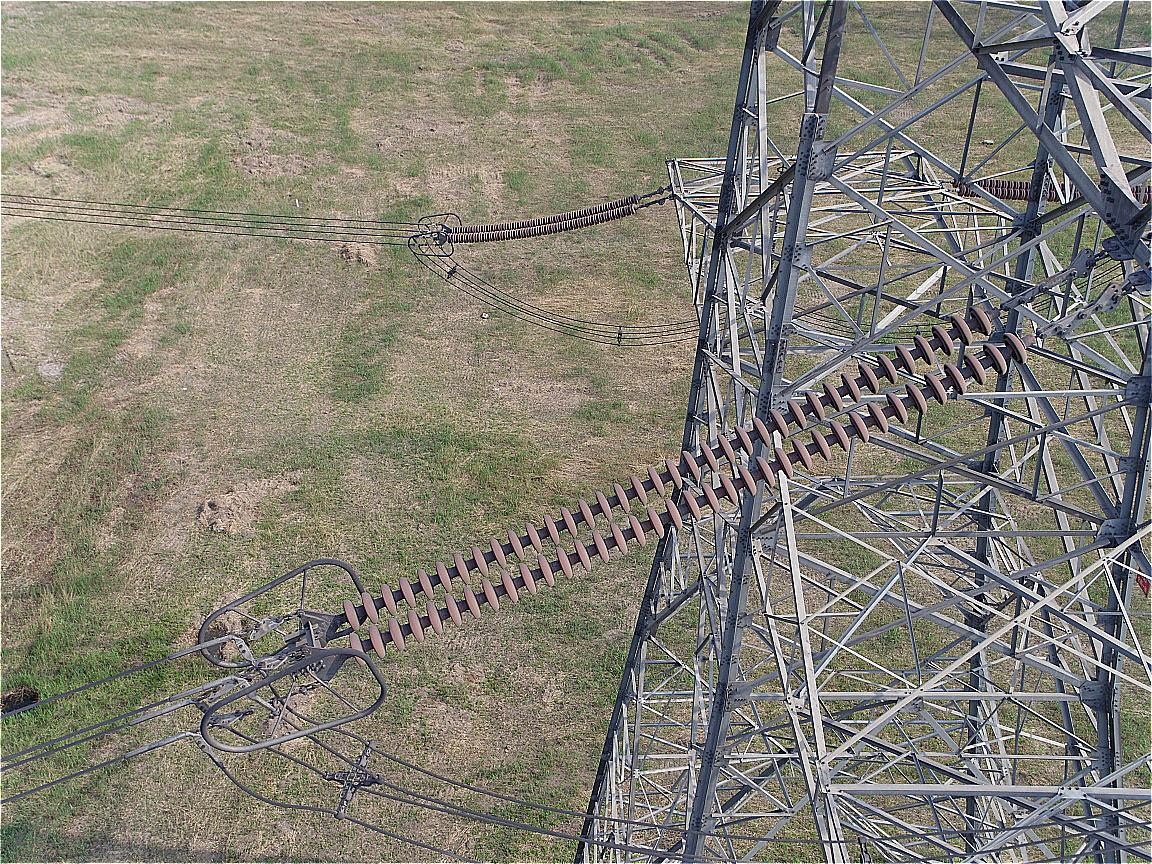insultor1: (289, 300, 1070, 690)
